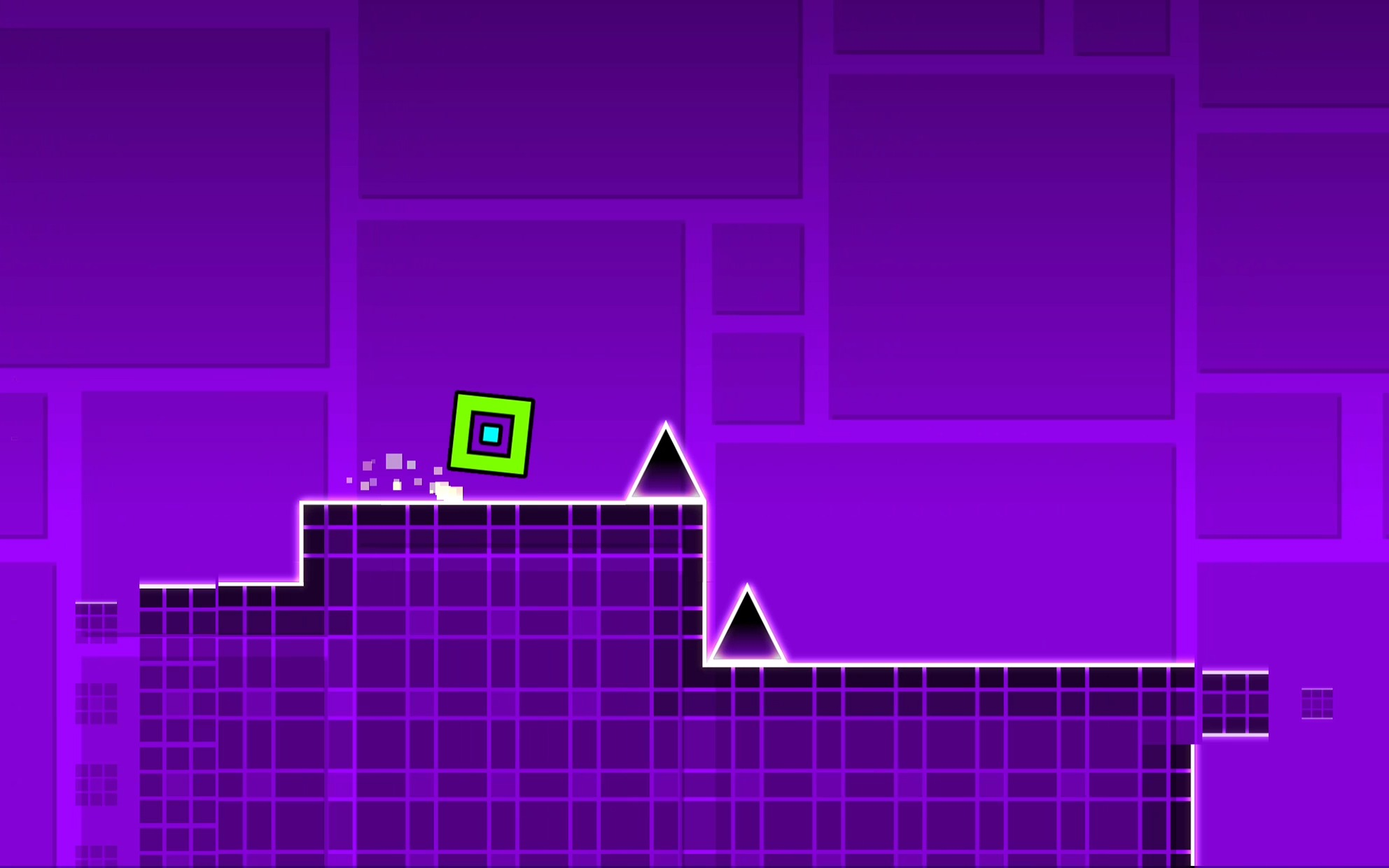Block2: (302, 500, 702, 868), (704, 661, 1194, 868), (137, 586, 300, 868), (1194, 668, 1268, 734)
Player: (447, 392, 532, 475)
Spike: (627, 421, 703, 500), (711, 584, 786, 663)
